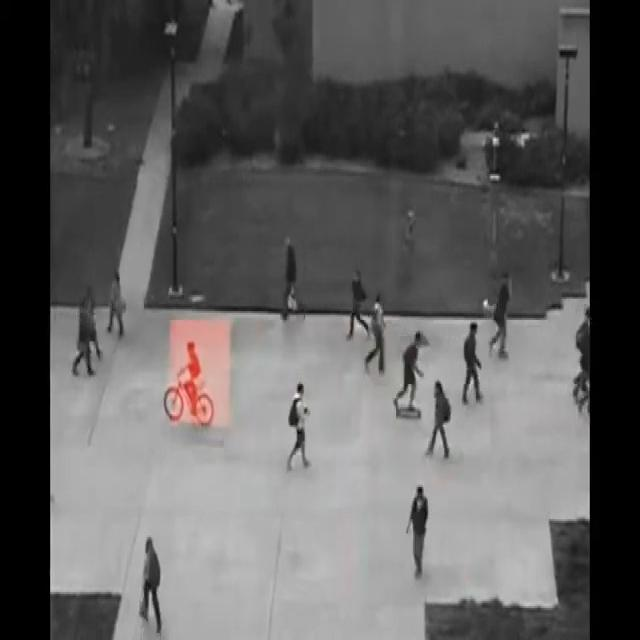anamoly: (155, 327, 228, 439), (385, 316, 437, 462)
